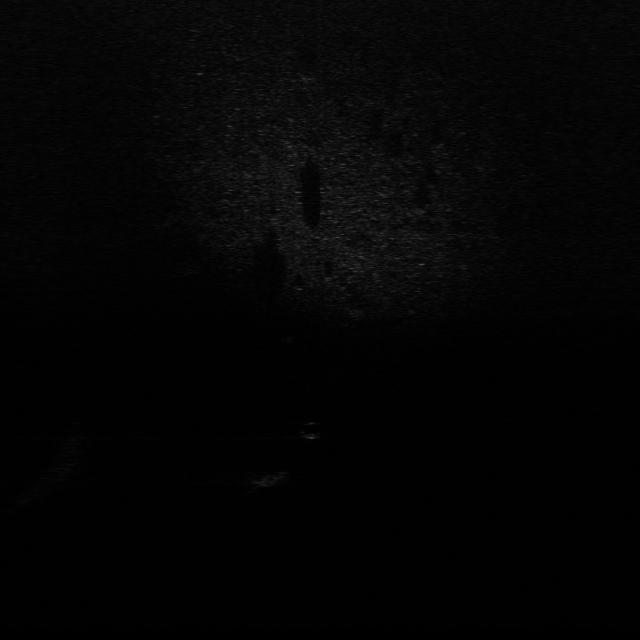ball: (300, 418, 326, 440)
square cage: (247, 464, 296, 488)
